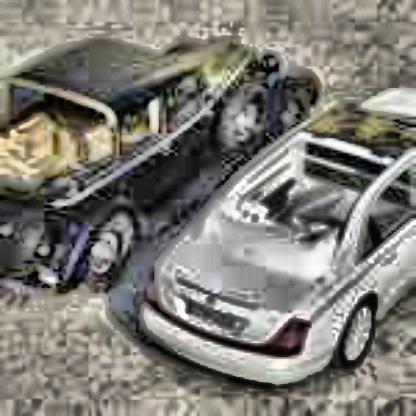Maybach Landaulet Convertible 2012: (136, 87, 416, 392)
